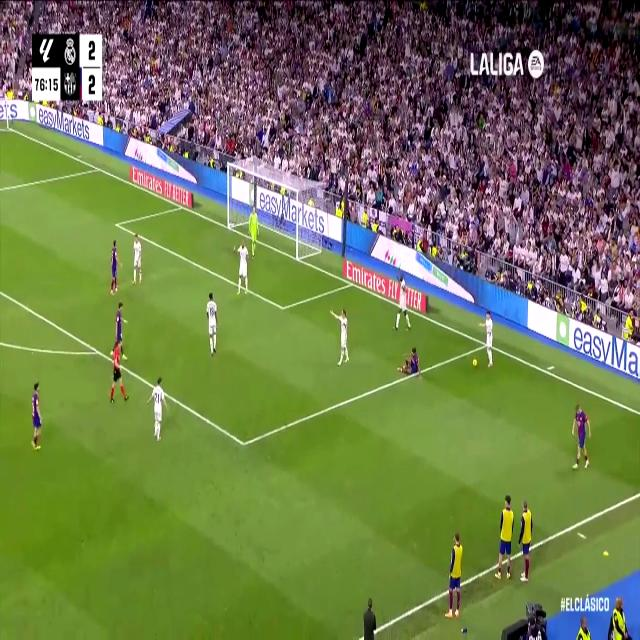bigarea_bottom_inner: (237, 427, 250, 458)
bigarea_top_outter: (94, 160, 102, 174)
bottom_arc_area_intersection: (91, 339, 102, 361)
corner: (1, 122, 12, 133)
smallarea_bottom_inner: (278, 296, 287, 318)
smallarea_top_inner: (112, 214, 121, 232)
